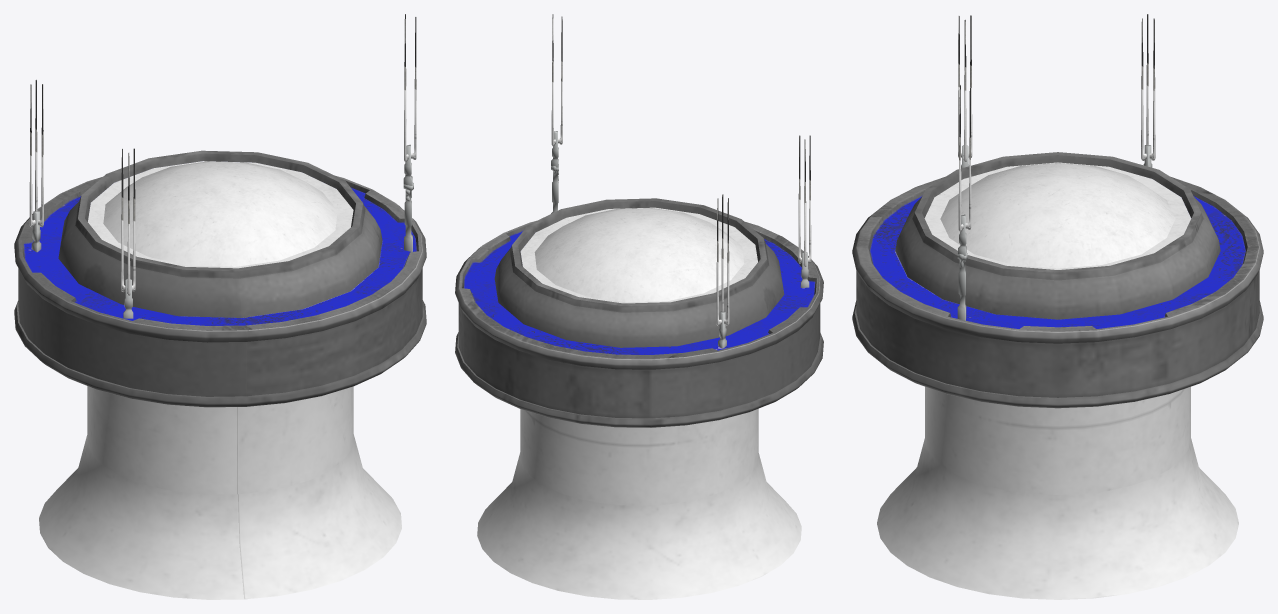
File: ME_Medium_Tower.fbx
The picture shows the model from 3 angles, left to right: view 1: azimuth 30°, elevation 25°; view 2: azimuth 150°, elevation 25°; view 3: azimuth 270°, elevation 25°; orthographic projection. The views are drawn at different scales.
Parts seen in each view (by area): view 1: ME_Medium_Tower; view 2: ME_Medium_Tower; view 3: ME_Medium_Tower.
Part boxes in pixels (left/top/right/bottom): ME_Medium_Tower: left=14, top=14, right=426, bottom=599; ME_Medium_Tower: left=455, top=14, right=823, bottom=599; ME_Medium_Tower: left=852, top=14, right=1263, bottom=599.
Size of the model in its own units: 136 by 184 by 136.
